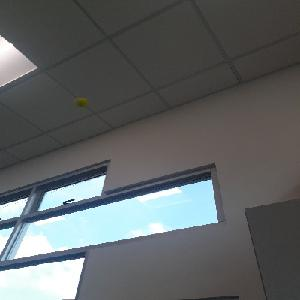Ball: (74, 97, 88, 107)
